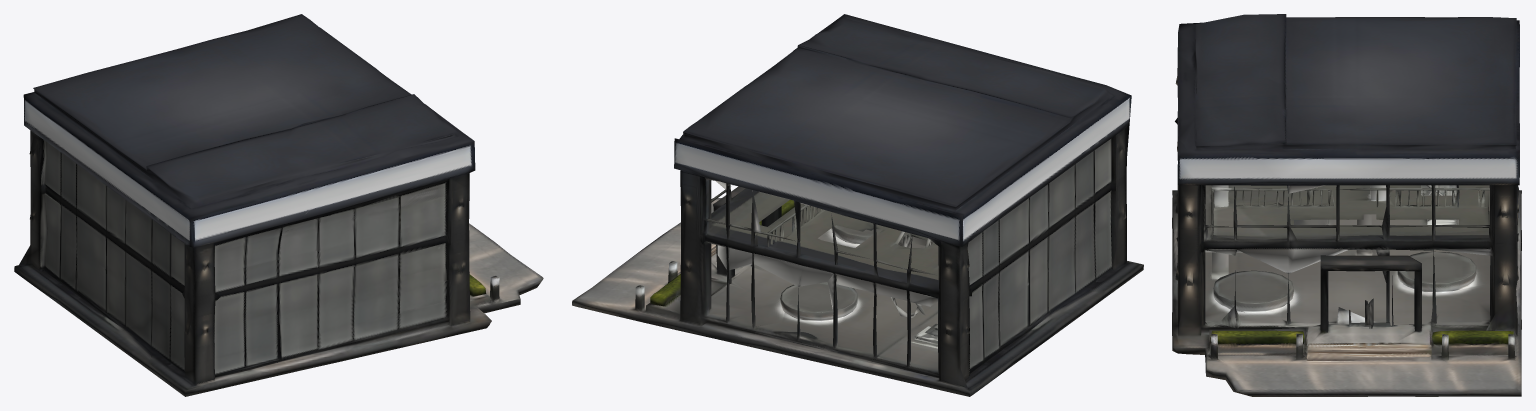
File: car_showroom.glb
The picture shows the model from 3 angles, left to right: view 1: azimuth 30°, elevation 25°; view 2: azimuth 150°, elevation 25°; view 3: azimuth 270°, elevation 25°; orthographic projection. The views are drawn at different scales.
Visible parts, largest first — view 1: tripo_node_32bfaead-c309-4673-b8b4-d067baa14b00; view 2: tripo_node_32bfaead-c309-4673-b8b4-d067baa14b00; view 3: tripo_node_32bfaead-c309-4673-b8b4-d067baa14b00.
Part boxes in pixels (bbox=[...]): tripo_node_32bfaead-c309-4673-b8b4-d067baa14b00: bbox=[14, 14, 543, 396]; tripo_node_32bfaead-c309-4673-b8b4-d067baa14b00: bbox=[572, 14, 1143, 396]; tripo_node_32bfaead-c309-4673-b8b4-d067baa14b00: bbox=[1172, 14, 1521, 396].
Bounding box in the file's own units: 1 × 0.4836 × 0.756.
Materials: 1 (1 with a texture image).
